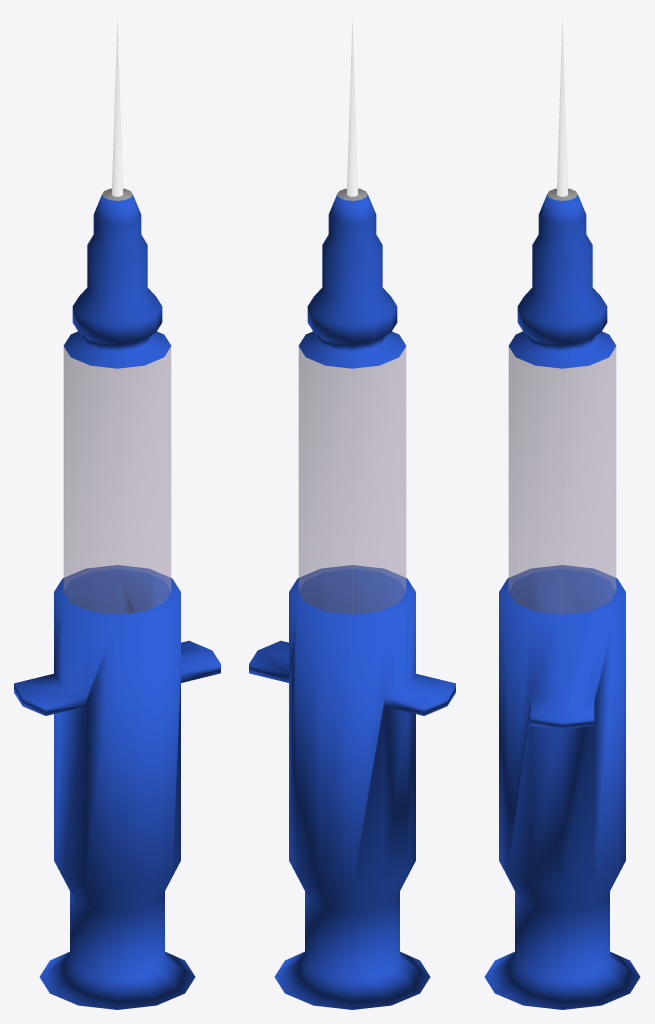
Rendered from needle.FBX.
3 views of the same model, side by side, from view 1: azimuth 30°, elevation 25°; view 2: azimuth 150°, elevation 25°; view 3: azimuth 270°, elevation 25° (orthographic).
Visible parts, largest first — view 1: Cylinder001; view 2: Cylinder001; view 3: Cylinder001.
Part boxes in pixels (bbox=[...]): Cylinder001: bbox=[14, 14, 220, 1009]; Cylinder001: bbox=[249, 14, 455, 1009]; Cylinder001: bbox=[484, 14, 640, 1009].
Bounding box in the file's own units: 9.03 × 43.81 × 6.44.
